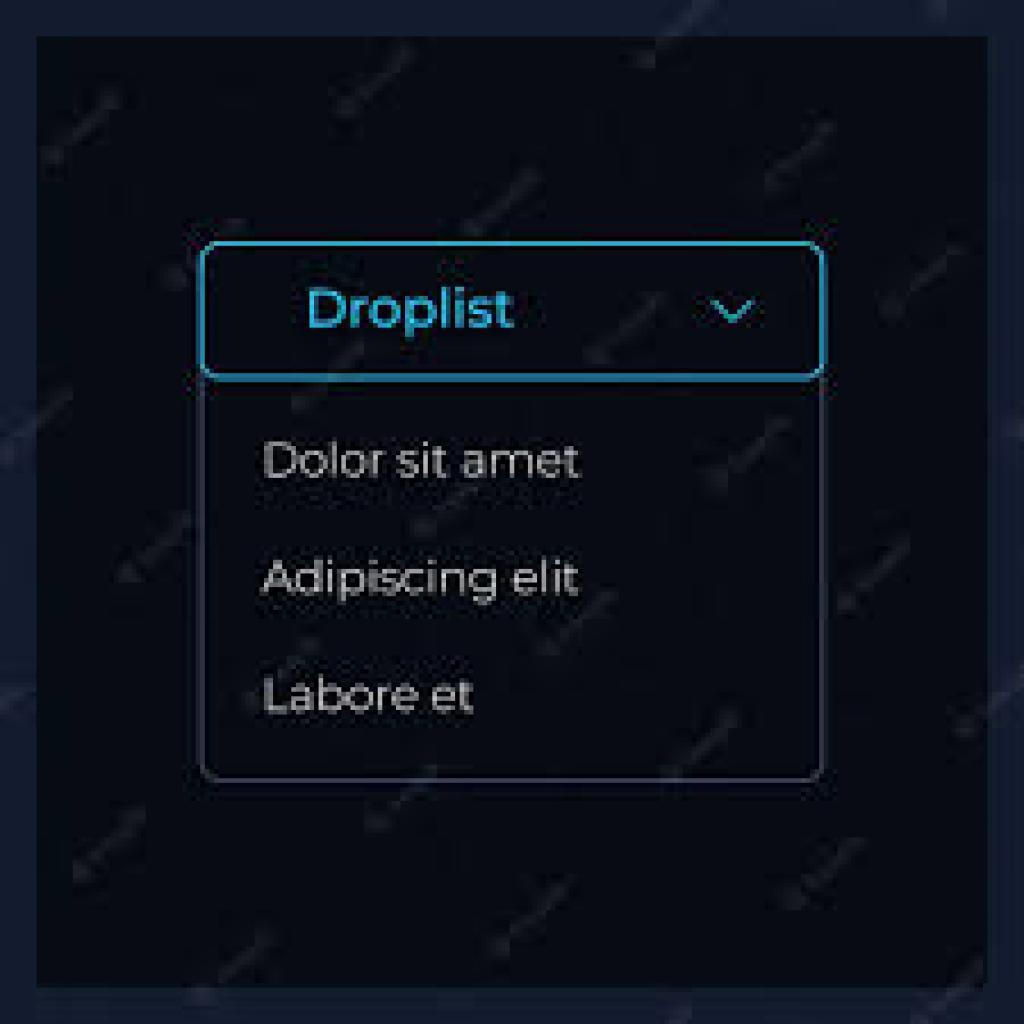dropdown: (199, 242, 826, 383)
